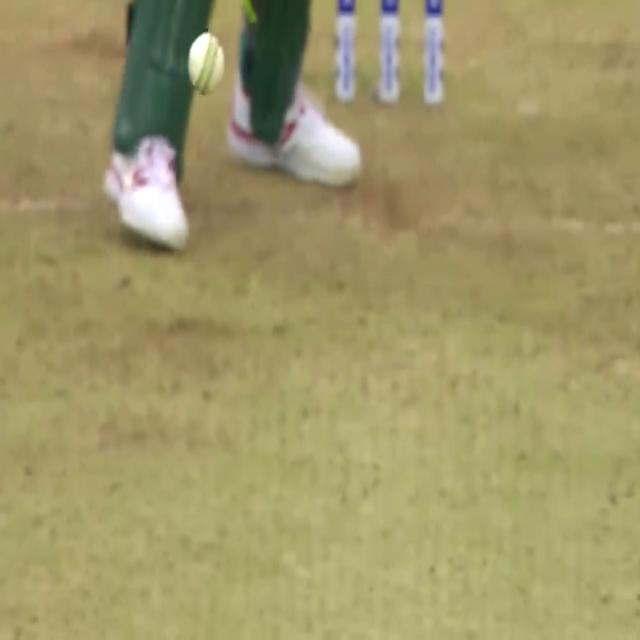ball: (186, 28, 226, 100)
